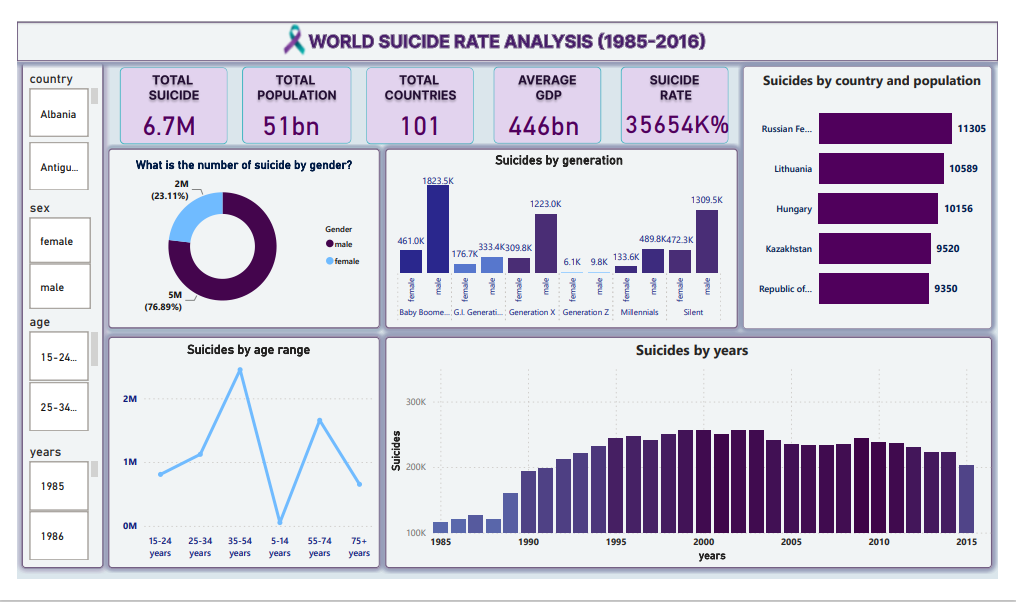

This screenshot's page, from the dashboard's own definition file:
{"tool":"powerbi","page":{"name":"Page 2","canvas":[1300,750],"ordinal":0},"visuals":[{"type":"barChart","title":"Suicides by country and population","fields":{"Category":["Sucide_rate.country"],"Y":["Sum(Sucide_rate.suicides_100k_pop)"]},"box":[965.6,70.9,335.1,336.6],"z":0},{"type":"clusteredColumnChart","title":"Suicides by years","fields":{"Category":["Sucide_rate.years"],"Y":["Sum(Sucide_rate.sucides)"]},"box":[488.7,426.7,812,299.7],"z":1000},{"type":"advancedSlicerVisual","fields":{"Values":["Sucide_rate.country"]},"box":[11.8,70.9,100.4,163.9],"z":2000},{"type":"advancedSlicerVisual","fields":{"Values":["Sucide_rate.sex"]},"box":[11.8,242.1,90.1,150.6],"z":3000},{"type":"donutChart","title":"What is the number of suicide by gender?","fields":{"Category":["Sucide_rate.sex"],"Y":["Sum(Sucide_rate.sucides)"]},"box":[131.4,186,339.6,221.5],"z":4000},{"type":"columnChart","title":"Suicides by generation","fields":{"Category":["Sucide_rate.generation","Sucide_rate.sex"],"Y":["Sum(Sucide_rate.sucides)"]},"box":[488.7,178.6,459.2,234.7],"z":5000},{"type":"advancedSlicerVisual","fields":{"Values":["Sucide_rate.age"]},"box":[11.8,392.7,100.4,160.9],"z":6000},{"type":"advancedSlicerVisual","fields":{"Values":["Sucide_rate.years"]},"box":[11.8,565.5,100.4,159.4],"z":7000},{"type":"cardVisual","fields":{"Data":["Sucide_rate.Total Suicides"]},"box":[148.6,98.6,110,71.4],"z":8000},{"type":"lineChart","title":"Suicides by age range","fields":{"Category":["Sucide_rate.age"],"Y":["Sum(Sucide_rate.sucides)"]},"box":[131.4,429.6,351.4,295.3],"z":9000},{"type":"cardVisual","fields":{"Data":["Sucide_rate.Total Population"]},"box":[307.1,98.6,125.7,71.4],"z":9001},{"type":"cardVisual","fields":{"Data":["Sucide_rate.Total Countries"]},"box":[488.6,98.6,102.9,71.4],"z":9002},{"type":"cardVisual","fields":{"Data":["Sucide_rate.Average GDP"]},"box":[634.3,98.6,141.4,71.4],"z":9003},{"type":"cardVisual","fields":{"Data":["Sucide_rate.Suicide Rate"]},"box":[788.6,98.6,190,71.4],"z":9004}]}

Visuals, with their boxes in screenshot pixels (x1, y1, x2, y2), scaled from the page's 1300x750 canvas onto the 1016x602 screenshot:
"Suicides by country and population" barChart: {"left": 755, "top": 57, "right": 1015, "bottom": 327}
"Suicides by years" clusteredColumnChart: {"left": 382, "top": 342, "right": 1015, "bottom": 583}
advancedSlicerVisual - Sucide_rate.country: {"left": 9, "top": 57, "right": 88, "bottom": 188}
advancedSlicerVisual - Sucide_rate.sex: {"left": 9, "top": 194, "right": 80, "bottom": 315}
"What is the number of suicide by gender?" donutChart: {"left": 103, "top": 149, "right": 368, "bottom": 327}
"Suicides by generation" columnChart: {"left": 382, "top": 143, "right": 741, "bottom": 332}
advancedSlicerVisual - Sucide_rate.age: {"left": 9, "top": 315, "right": 88, "bottom": 444}
advancedSlicerVisual - Sucide_rate.years: {"left": 9, "top": 454, "right": 88, "bottom": 582}
cardVisual - Sucide_rate.Total Suicides: {"left": 116, "top": 79, "right": 202, "bottom": 136}
"Suicides by age range" lineChart: {"left": 103, "top": 345, "right": 377, "bottom": 582}
cardVisual - Sucide_rate.Total Population: {"left": 240, "top": 79, "right": 338, "bottom": 136}
cardVisual - Sucide_rate.Total Countries: {"left": 382, "top": 79, "right": 462, "bottom": 136}
cardVisual - Sucide_rate.Average GDP: {"left": 496, "top": 79, "right": 606, "bottom": 136}
cardVisual - Sucide_rate.Suicide Rate: {"left": 616, "top": 79, "right": 765, "bottom": 136}
